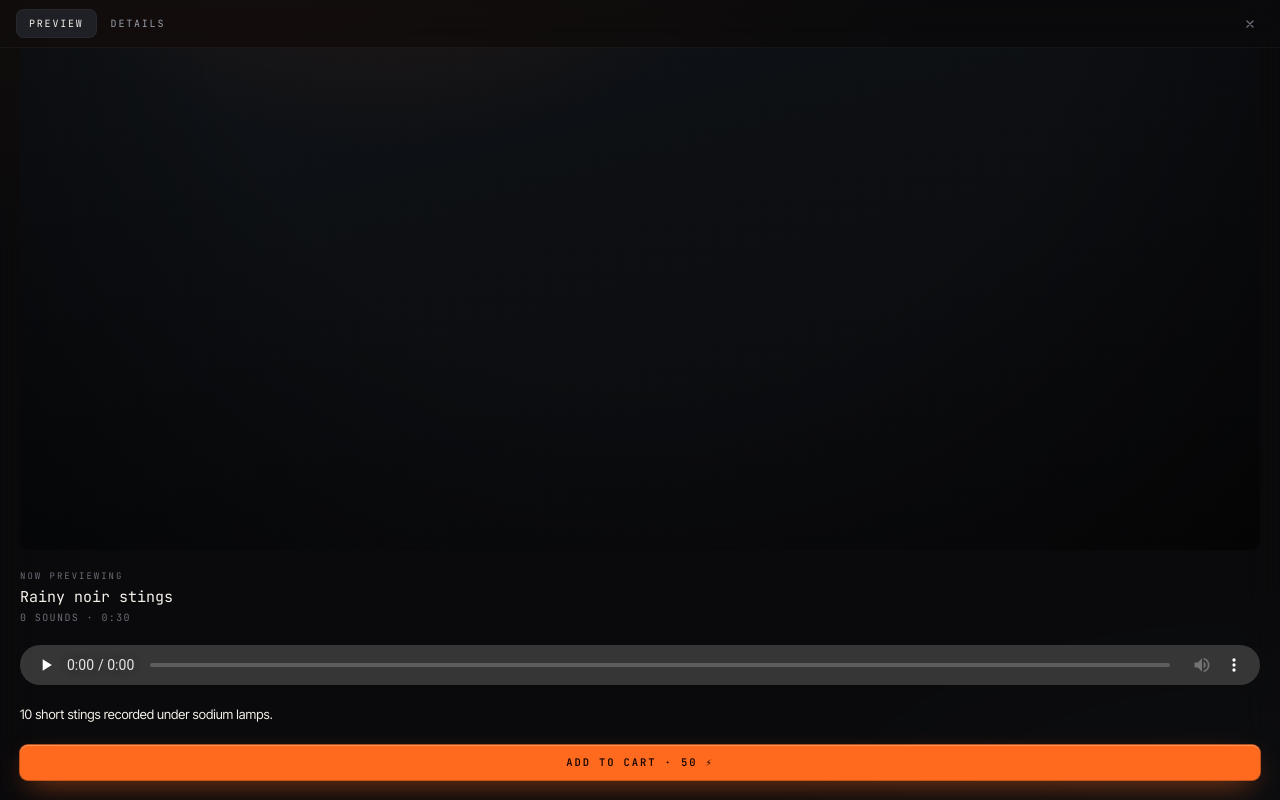
PackDetailPanel › Remove from cart restores Add CTA
(page scrolled)
Step 1. Click the button with test id "pack-add-to-cart" → (640, 762), box [20,744,1260,780]
(page scrolled)
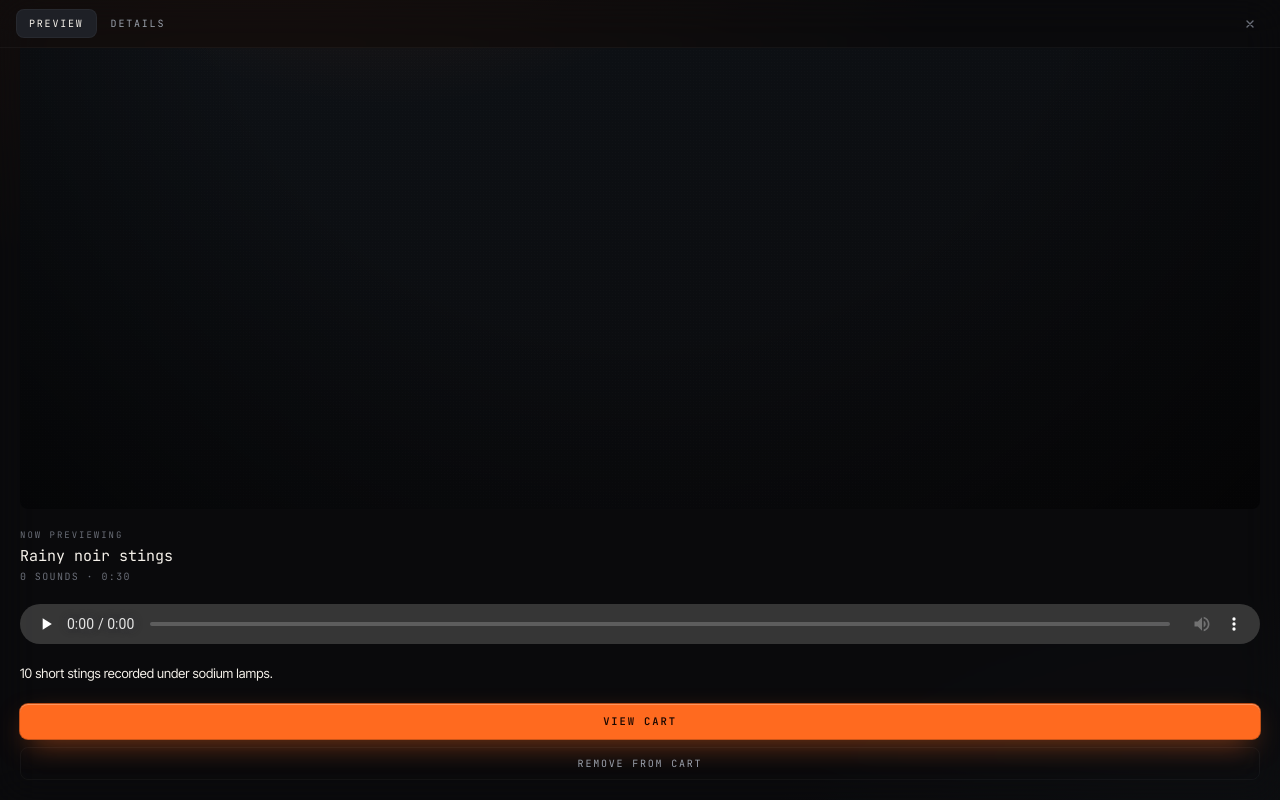
Step 2. Click the button with test id "pack-remove-from-cart" → (640, 764), box [20,747,1260,780]
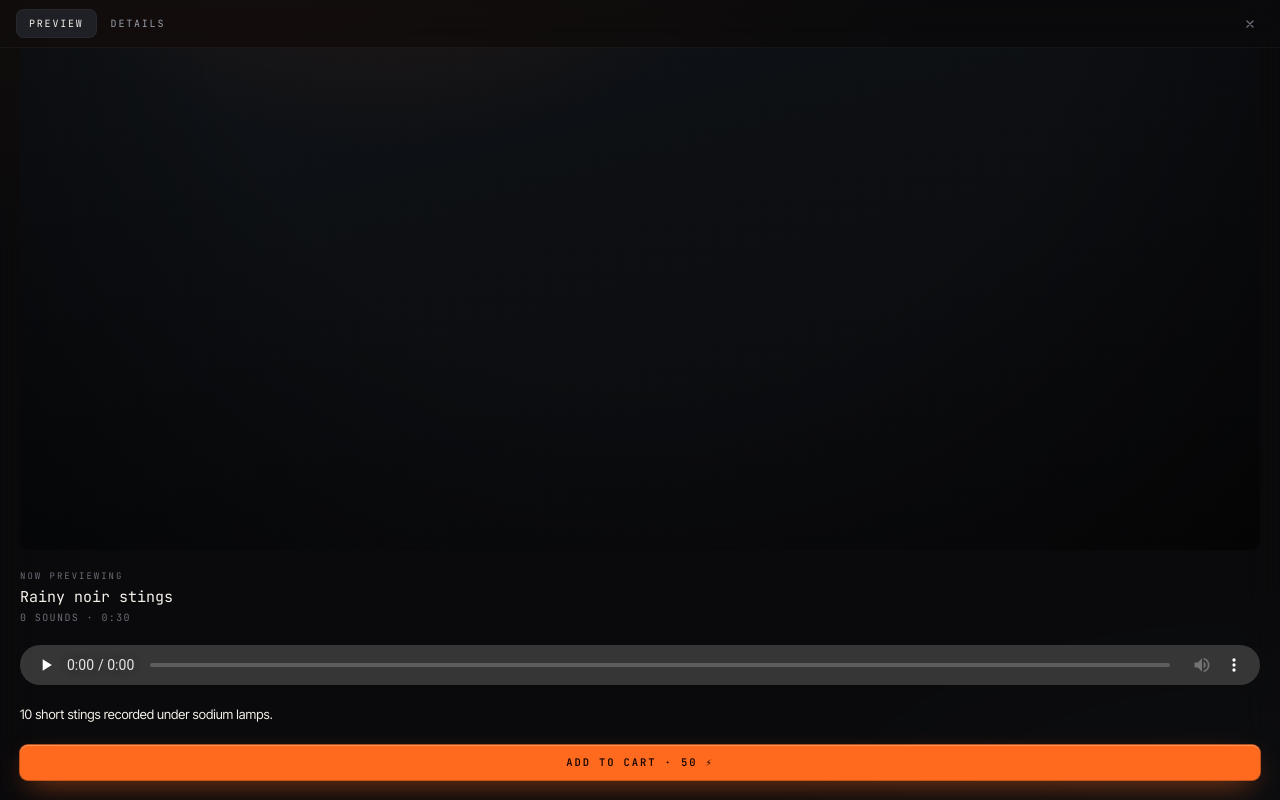
Result: the button with test id "pack-add-to-cart" is shown at [20,744,1260,780]
